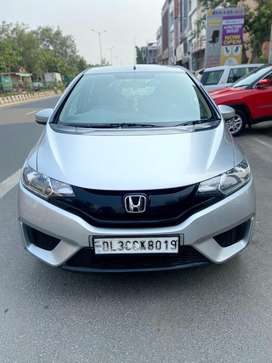DL3CCK8019: (94, 237, 178, 253)
